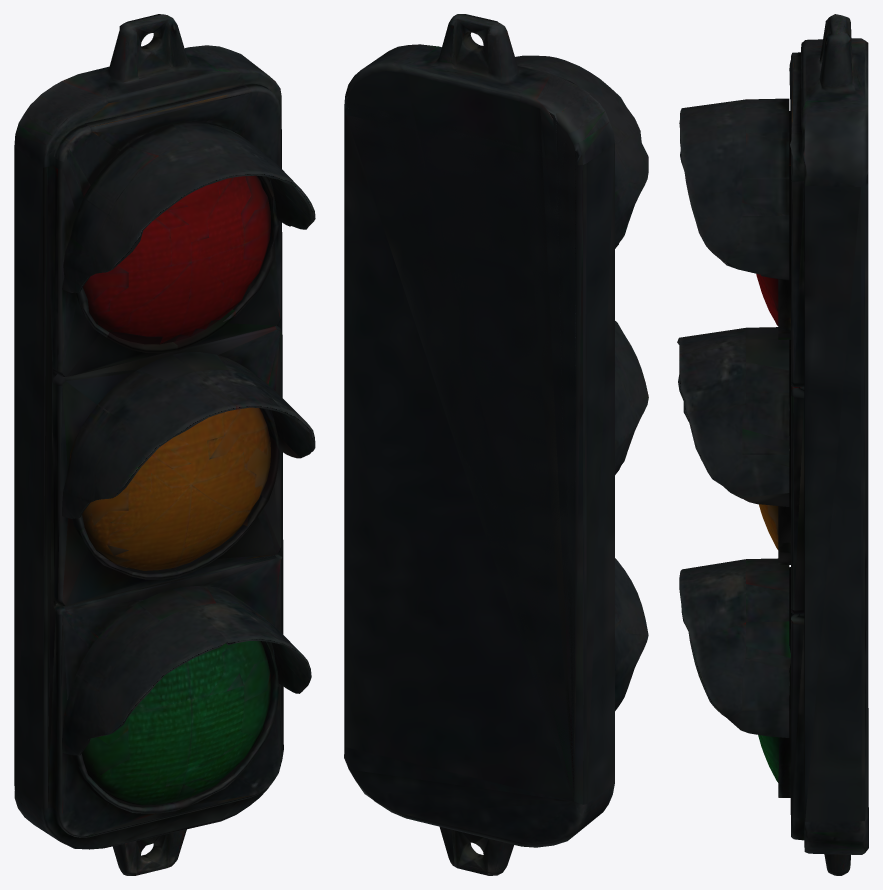
Rendered from semaforo-rio.glb.
3 renders of one model, left to right at view 1: azimuth 30°, elevation 25°; view 2: azimuth 150°, elevation 25°; view 3: azimuth 270°, elevation 25°, orthographic.
Visible parts, largest first — view 1: geometry_0; view 2: geometry_0; view 3: geometry_0.
Part boxes in pixels (x1=…): geometry_0: x1=14, y1=14, x2=315, y2=875; geometry_0: x1=344, y1=14, x2=648, y2=875; geometry_0: x1=677, y1=14, x2=868, y2=875.
Size of the model in its own units: 0.2827 by 0.9512 by 0.1968.
Materials: 1 (1 with a texture image).
